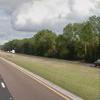Tree: (18, 20, 100, 73)
